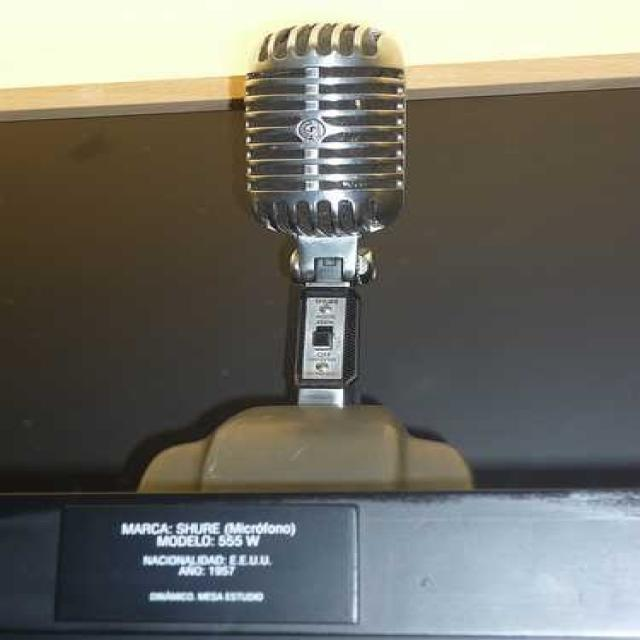microphone: (229, 20, 404, 247)
